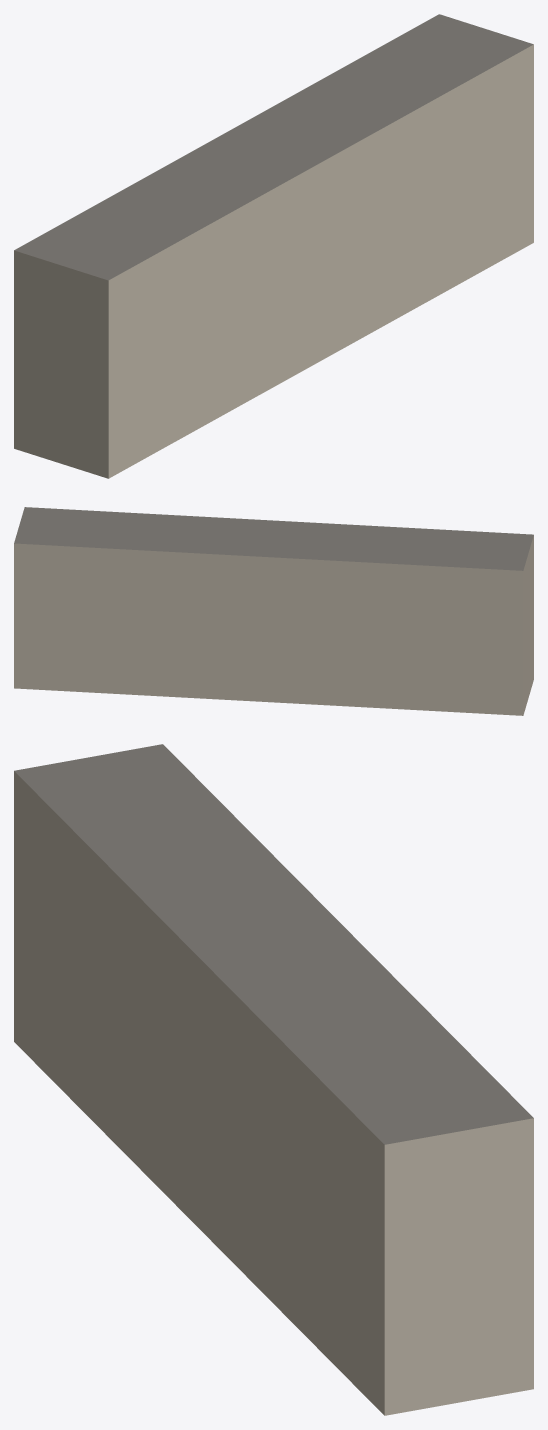
3 renders of one model, top to bottom at view 1: azimuth 30°, elevation 25°; view 2: azimuth 150°, elevation 25°; view 3: azimuth 270°, elevation 25°, orthographic. The views are drawn at different scales.
Visible parts, largest first — view 1: HP-w1435294151; view 2: HP-w1435294151; view 3: HP-w1435294151.
Boxes of the visible parts, box(x1,y1,x2,y2) form: HP-w1435294151: box(14, 14, 533, 478); HP-w1435294151: box(14, 507, 533, 715); HP-w1435294151: box(14, 744, 533, 1415).
Bounding box in the file's own units: 57.09 × 18 × 31.3.
